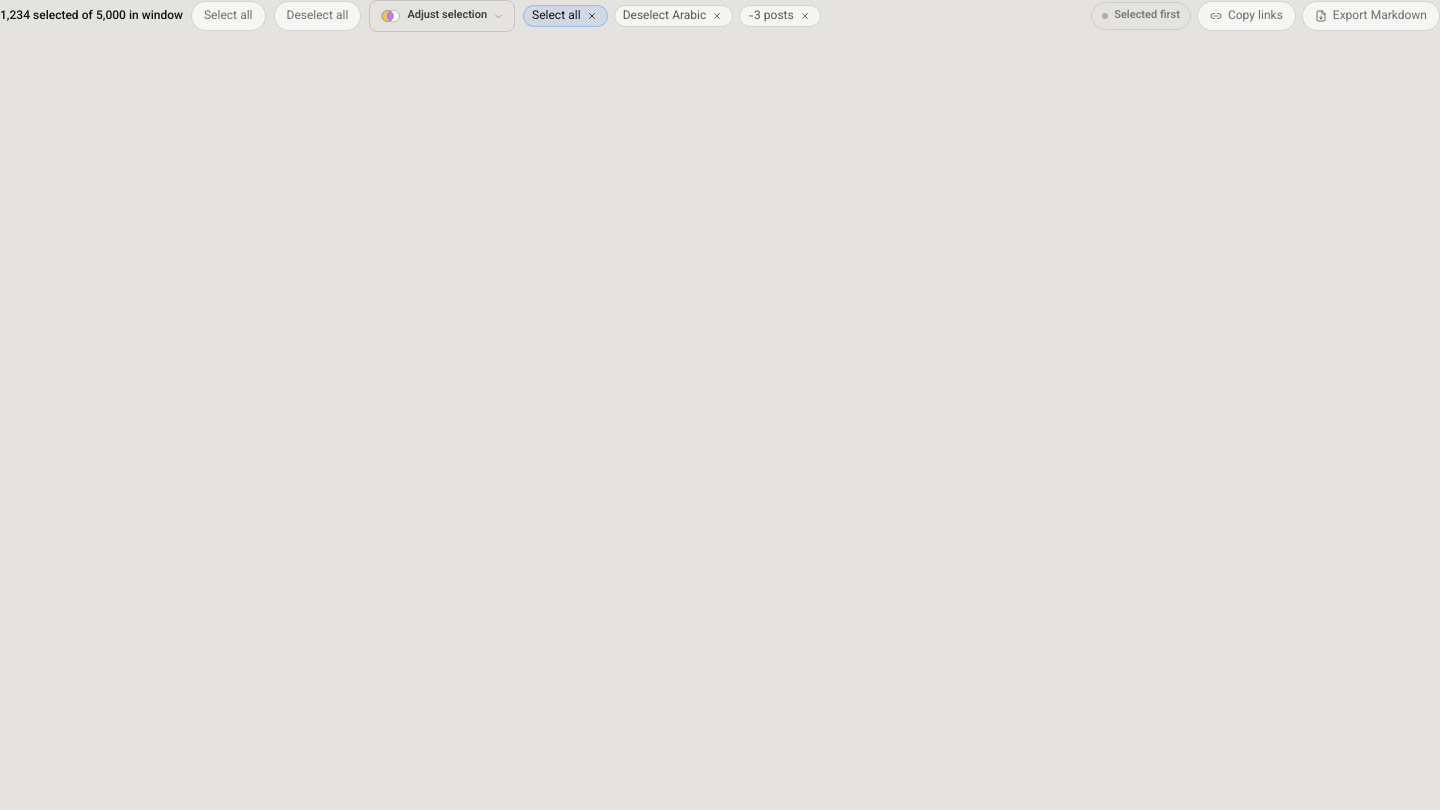
Test case: the Venn on Posts › counts its regions from the server and offers no Invert shown
Step 1. Click the button with test id "adjust-selection" → point(442, 16), box 369,0 -> 515,32
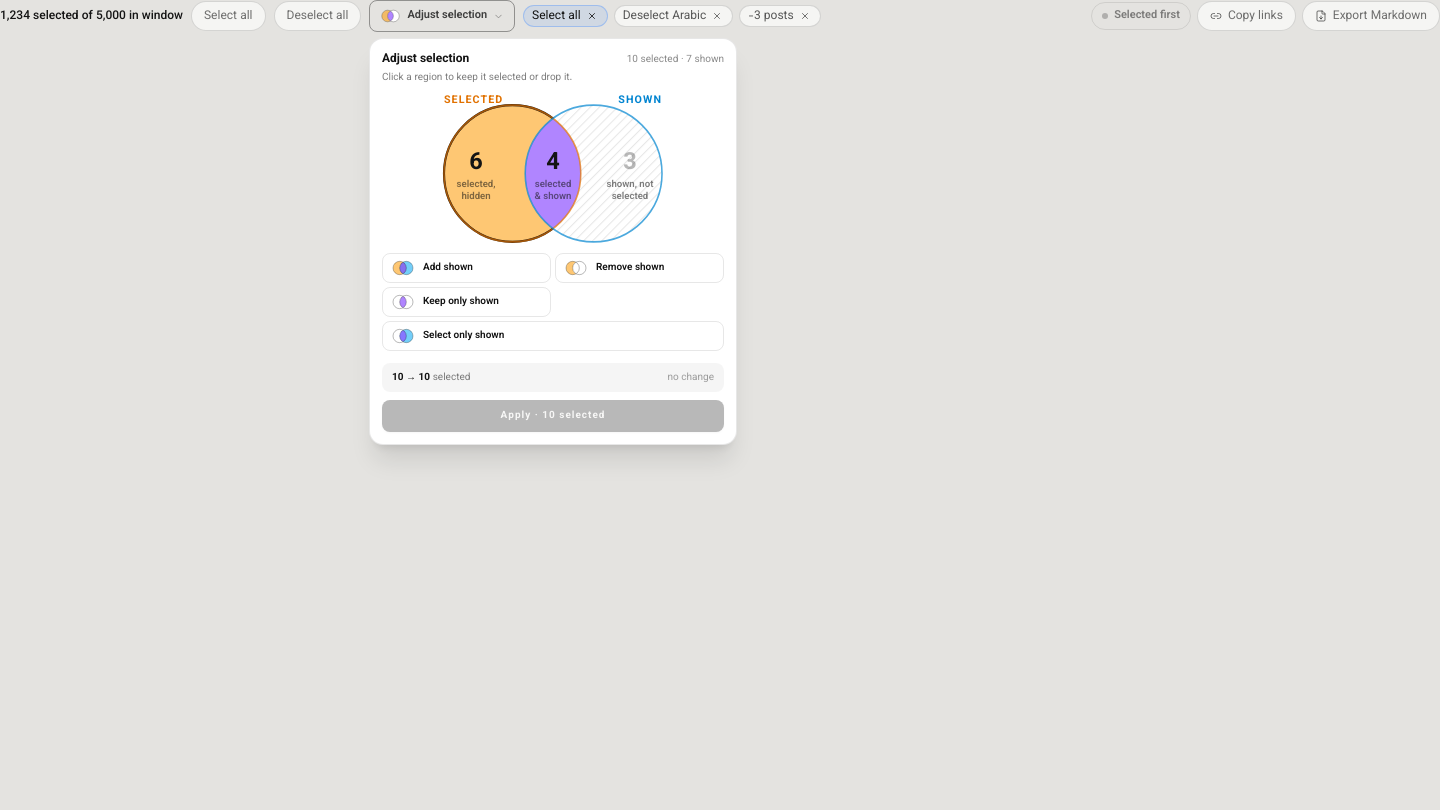
Expected: the button "Add shown" is shown, 382,253 -> 551,283
Expected: the button "Remove shown" is shown, 555,253 -> 724,283
Expected: the button "Keep only shown" is shown, 382,287 -> 551,317
